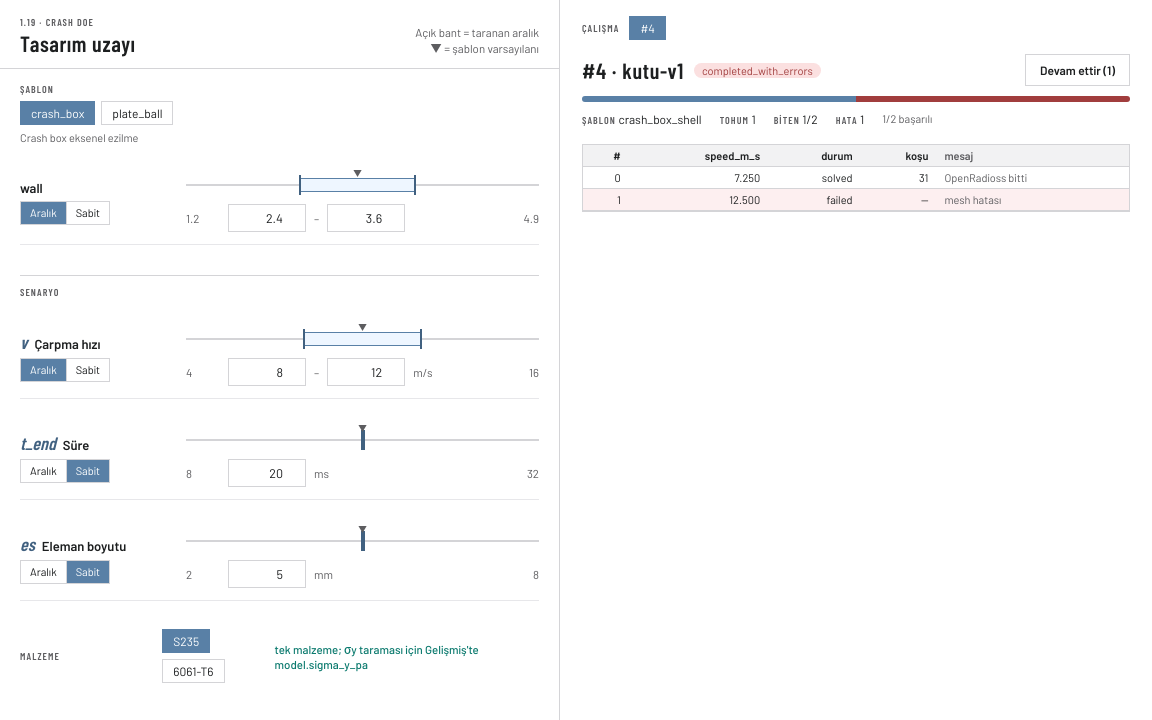
CrashDoePanel › şablon değişince geometri satırları yeni şablondan kurulur
The width and height of the screenshot is (1152, 720).
Expected: the number field named "wall alt" is shown, [228, 204, 306, 232]
Click the button "plate_ball".
click(137, 113)  # box [101, 101, 174, 125]
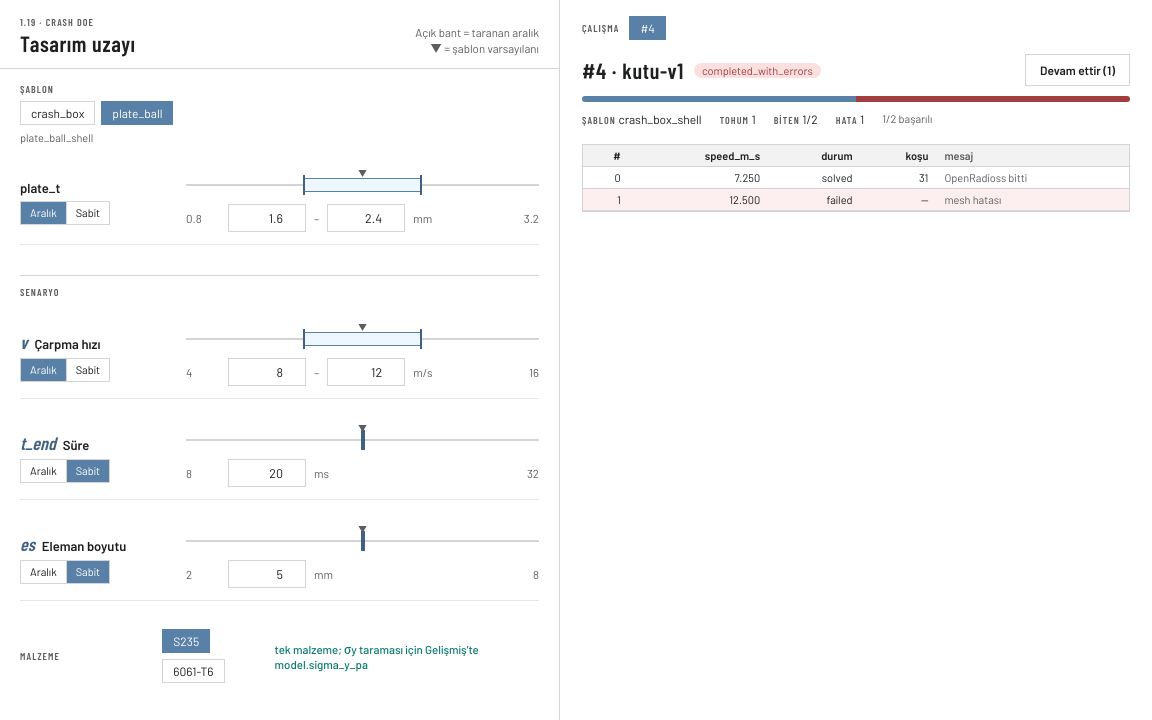
Now the number field named "plate_t alt" is shown, box [228, 204, 306, 232]
